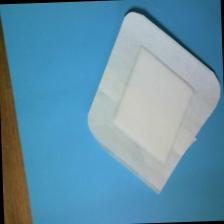Cut: (80, 5, 224, 201)
